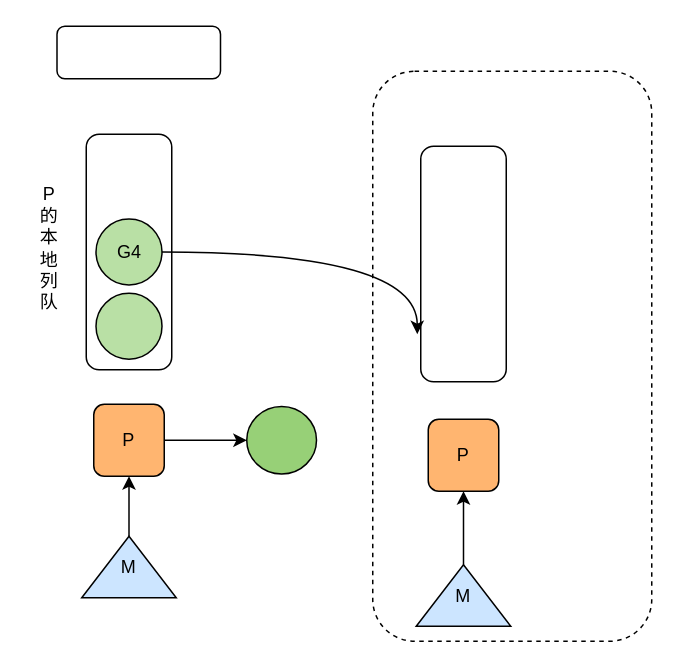
This 678x668 diagram has some shape labels left out. The shapes that lost their labels are listed below. From the top down, each one's box as (x1, y1, x2, y2) in pixels, then its label:
(56, 25, 220, 79): 全局队列
(94, 292, 162, 359): G3
(245, 405, 316, 474): G2
